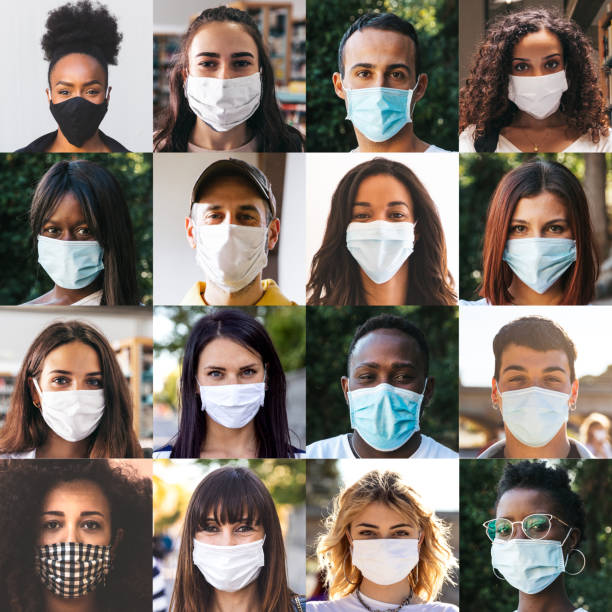with mask: (330, 8, 428, 148), (337, 313, 434, 453), (481, 459, 578, 599), (27, 465, 124, 605), (19, 321, 117, 441), (487, 328, 585, 448), (180, 315, 278, 435), (495, 175, 593, 295), (336, 161, 434, 281), (179, 173, 277, 293), (25, 172, 123, 292), (30, 33, 128, 153), (183, 468, 275, 593), (339, 490, 429, 602), (182, 17, 267, 130), (490, 11, 574, 124)
